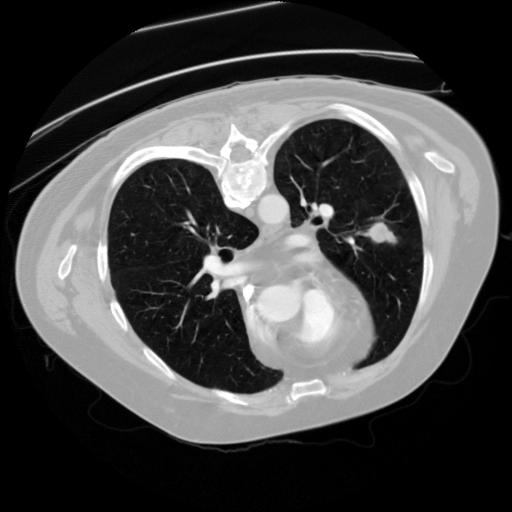nodule: (363, 219, 396, 252)
